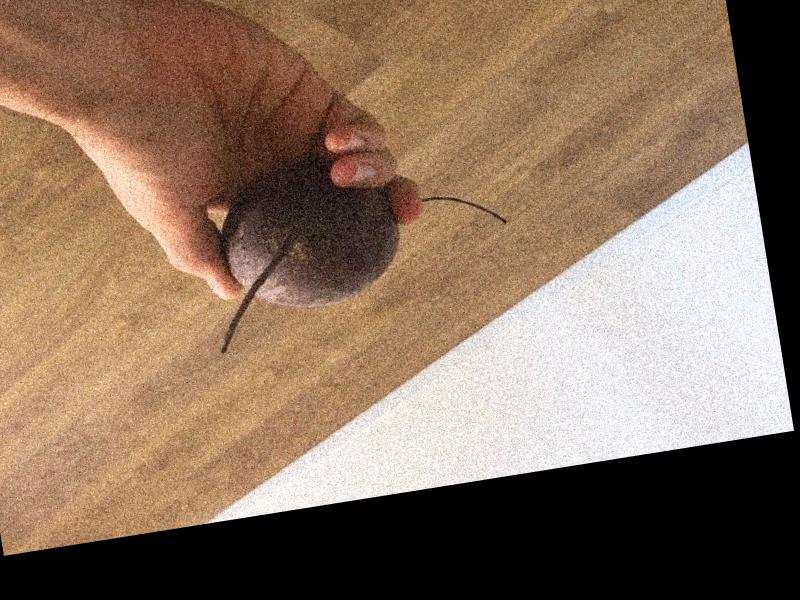Beet: (195, 135, 521, 352)
